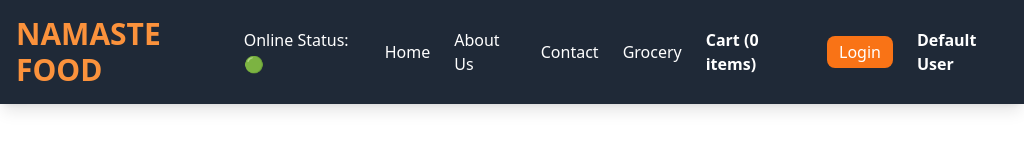
Test: should change login button to logout on click
Click the button "Login" at (860, 52), box [827,36,893,68]
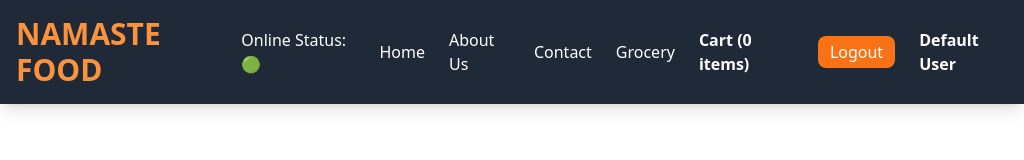
Check: the button "Logout" is shown, box [818,36,895,68]
